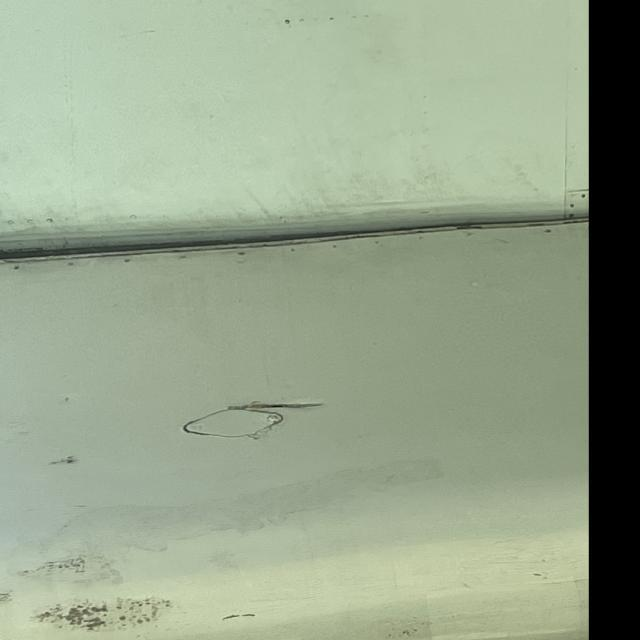crack: (221, 397, 331, 413)
